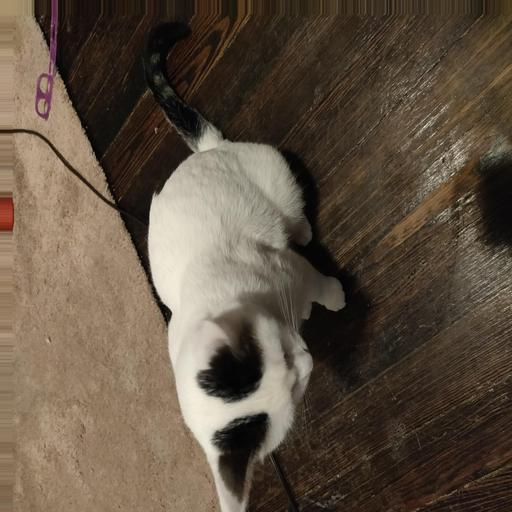cat: (90, 163, 421, 494)
